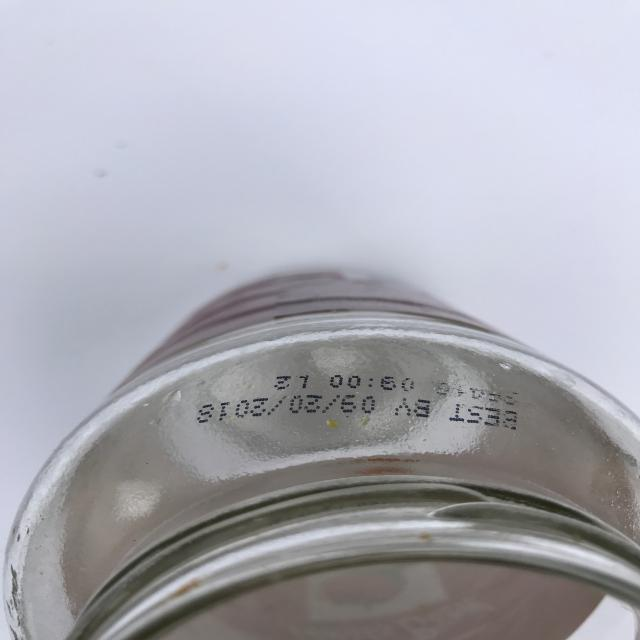glass: (2, 268, 639, 639)
